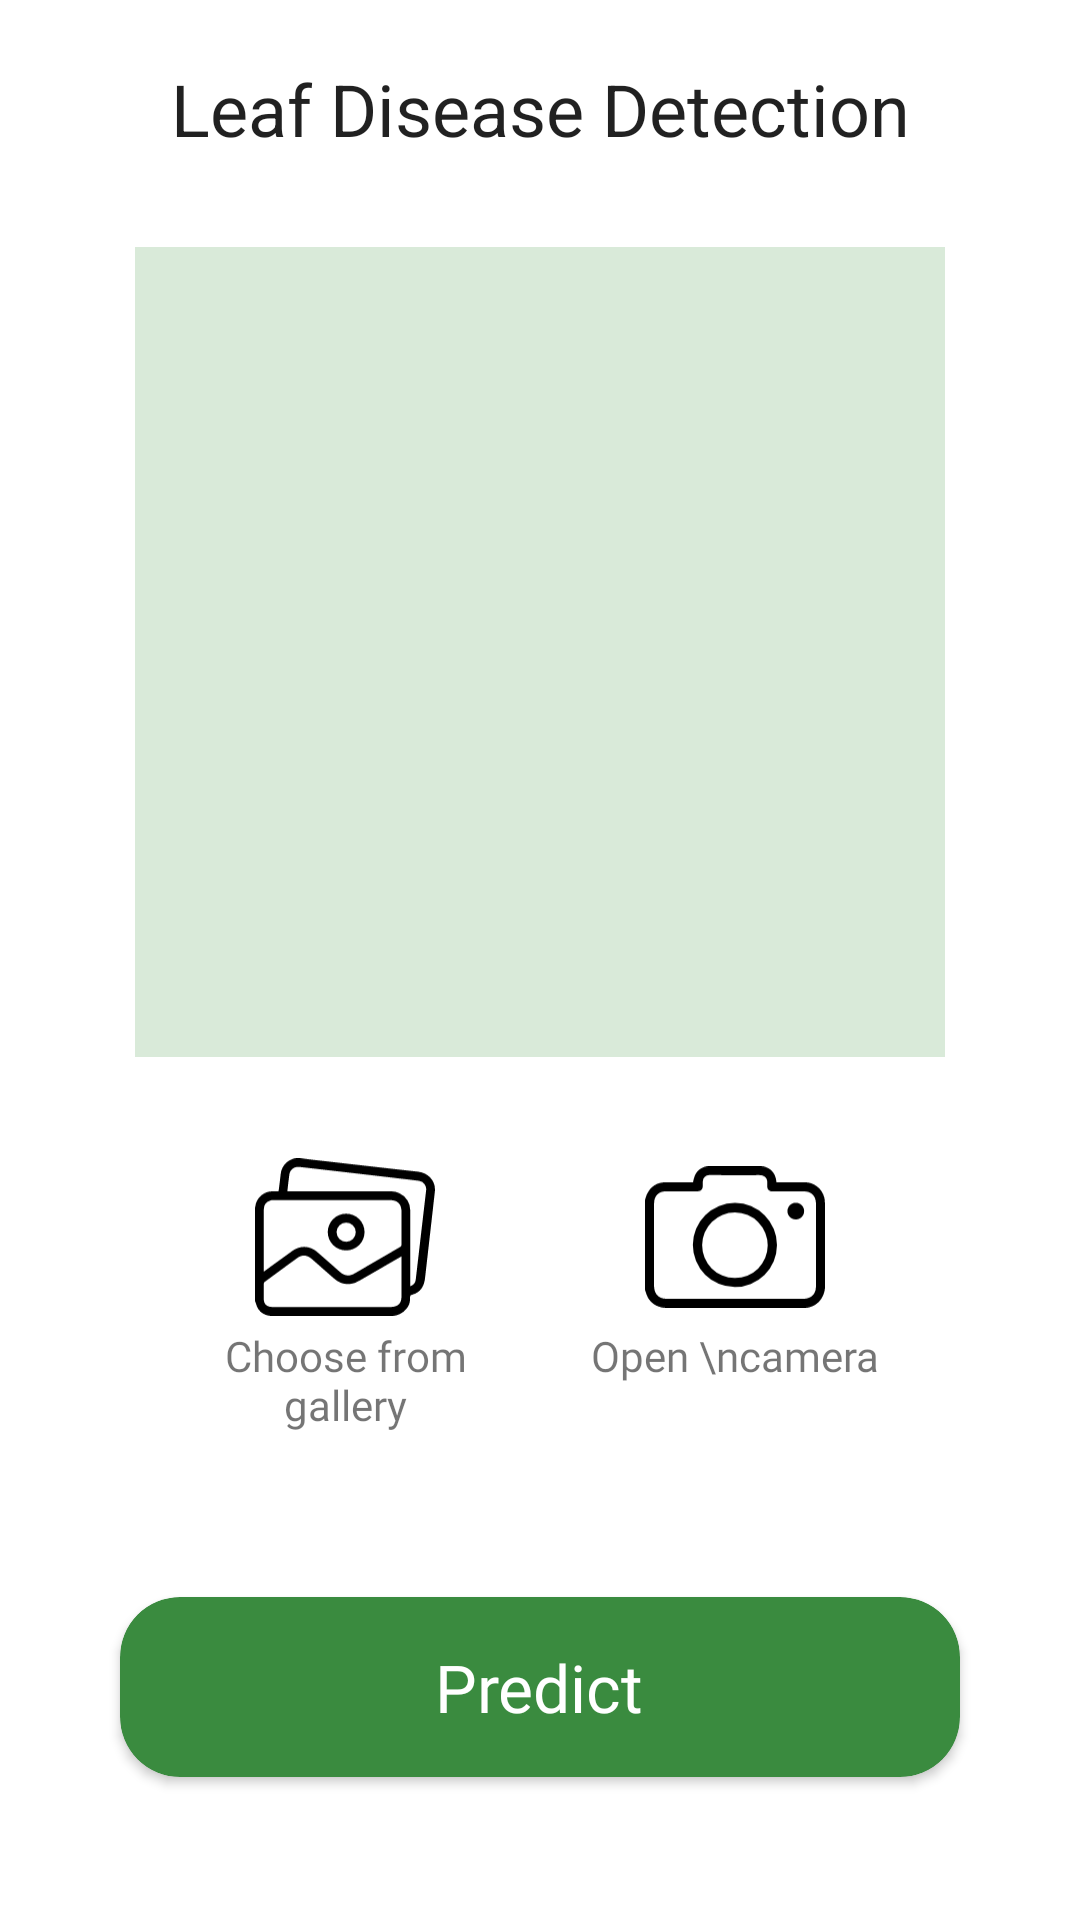

Point at icon controls on the screen. Image size 1080 × 1920, points as [x,y].
photos: [345,1237]
